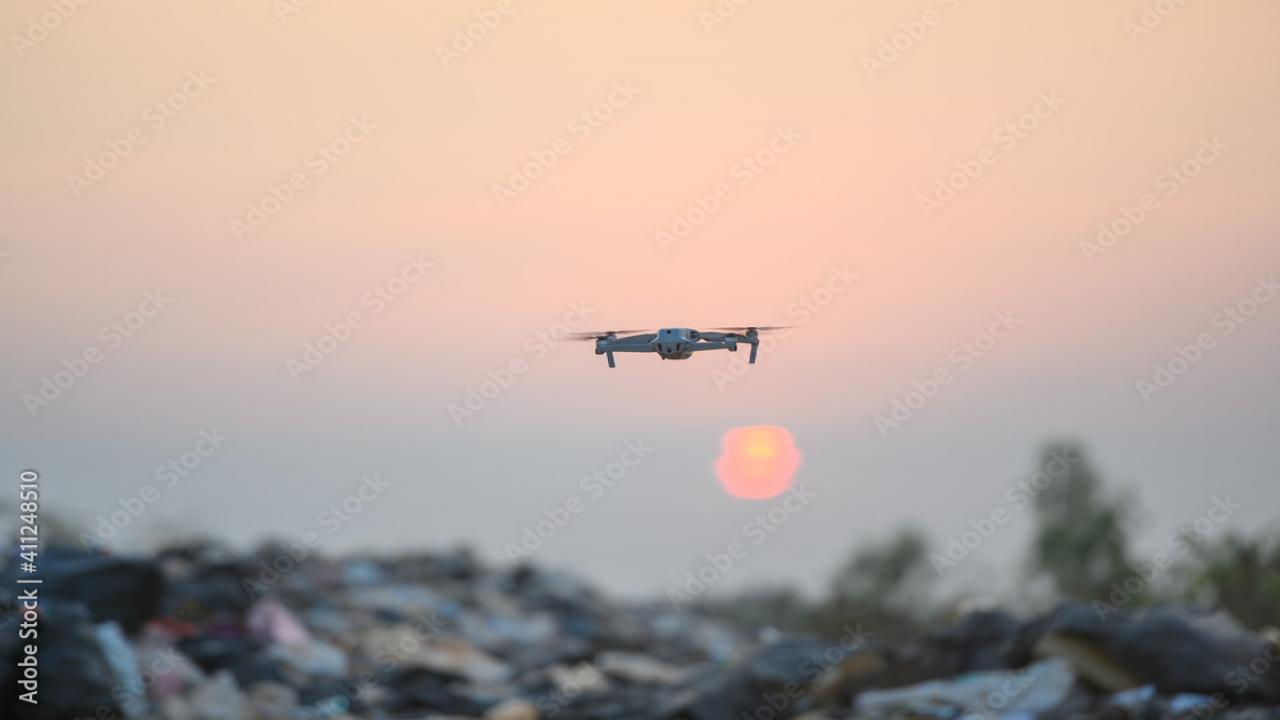Drone: (538, 318, 811, 381)
